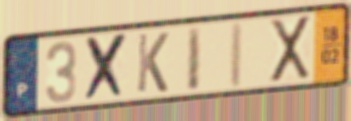3: (44, 40, 78, 105)
I: (227, 19, 246, 91), (186, 23, 204, 94)
K: (135, 30, 170, 95)
X: (83, 31, 130, 104), (268, 13, 313, 86)
